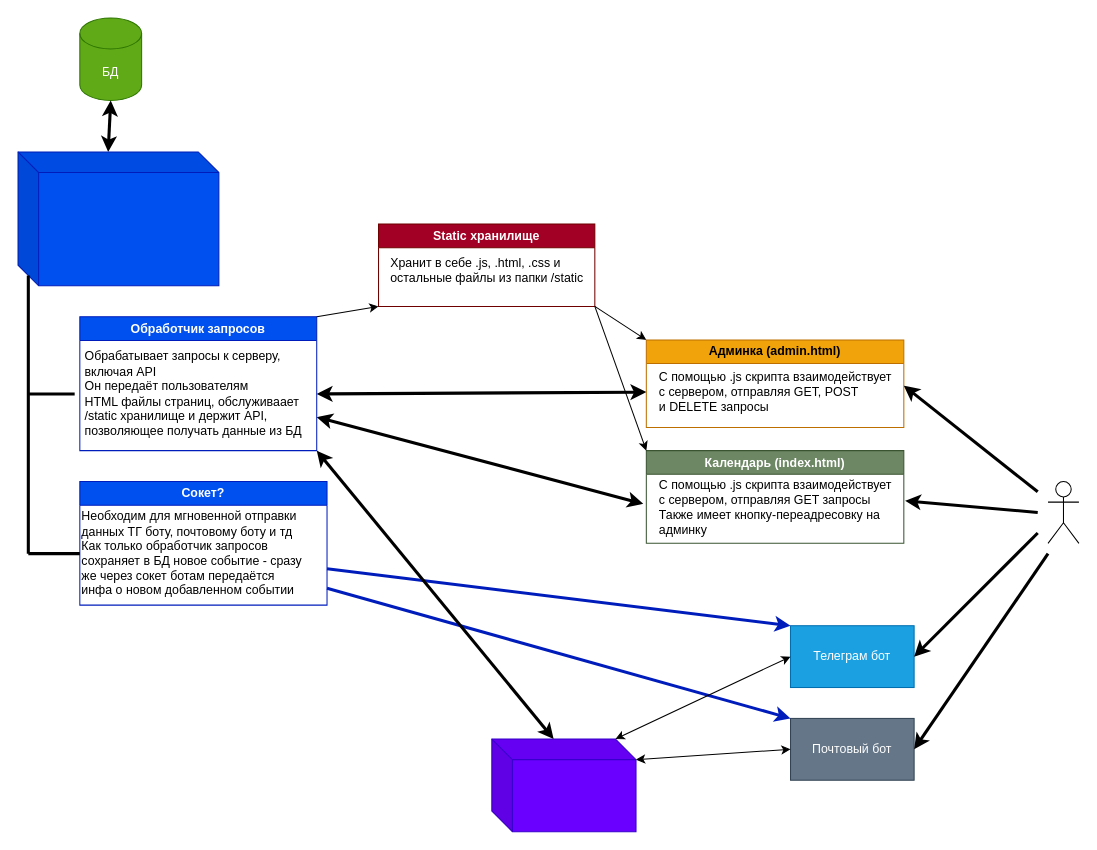
Image size: 1097x850. Some labels were removed from this diagram. Here are the shapes that lost their labels. From the top down, the centre of each, then its label:
At (x=118, y=218): "Сервер".
At (x=1063, y=511): "Юзер".
At (x=563, y=785): "Бот-сервер".
